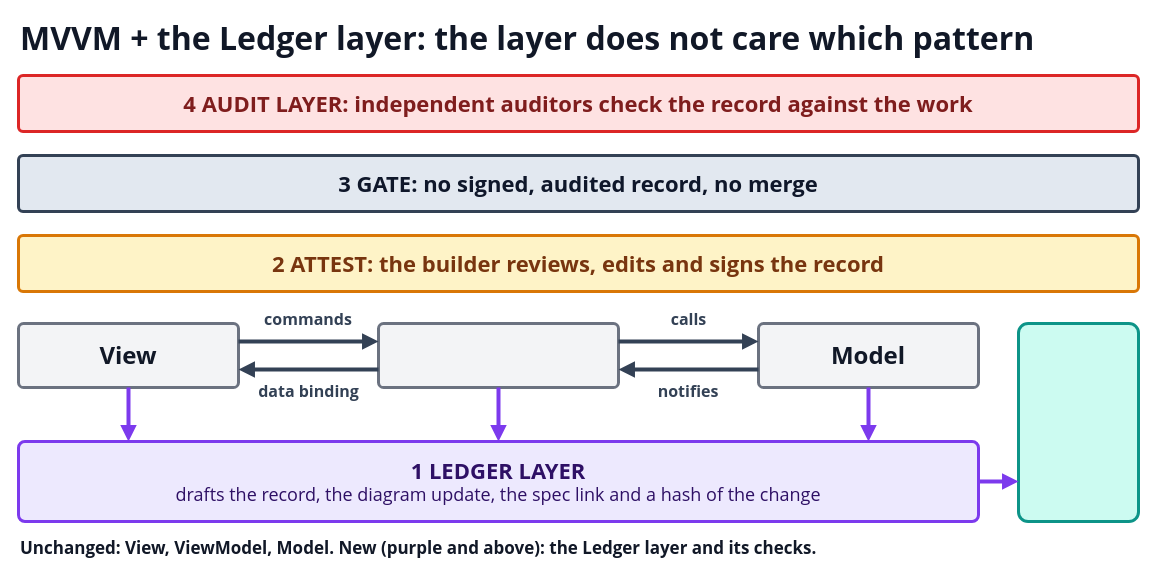
Some shapes in this 1157 by 580 pixel diagram are drawn without their labels. The shapes that lost their labels are listed below. From the top down, each one's box as (x1, y1, x2, y2) in pixels, then its label:
(376, 322, 620, 388): ViewModel
(1016, 322, 1140, 522): RECORD in the repo
